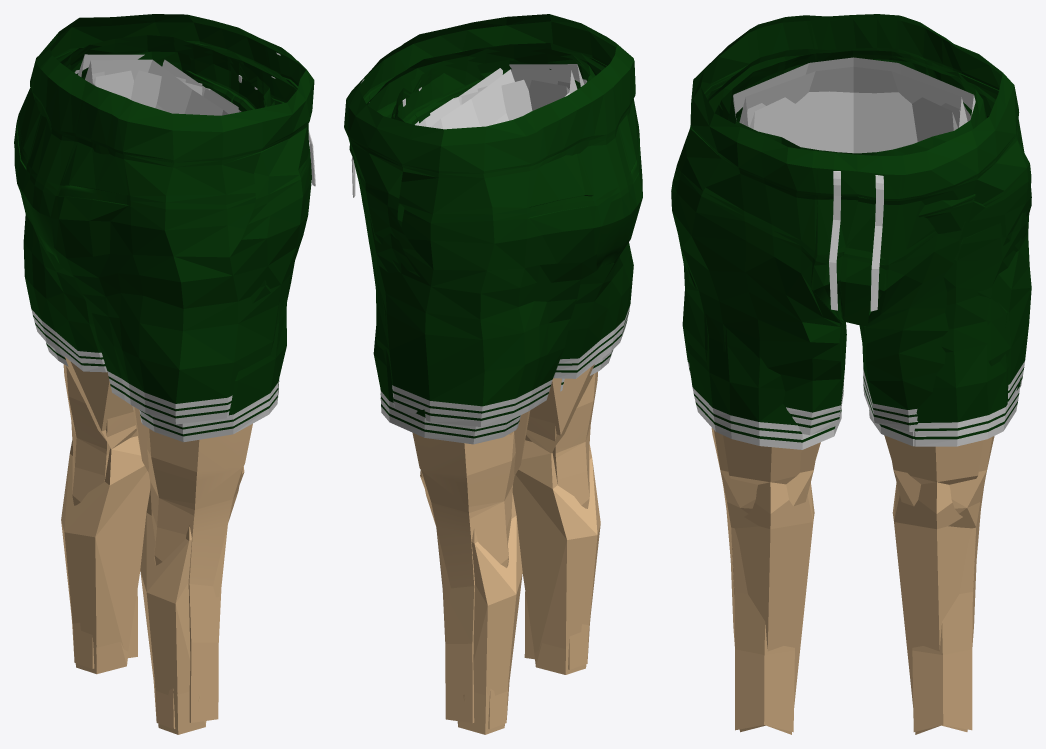
The model's file is &&GreenShorts.glb.
3 renders of one model, left to right at view 1: azimuth 30°, elevation 25°; view 2: azimuth 150°, elevation 25°; view 3: azimuth 270°, elevation 25°, orthographic. The views are drawn at different scales.
Visible parts, largest first — view 1: legs_w, legs.001, legs_w.003, legs_w.001, legs, legs.002; view 2: legs_w, legs.001, legs_w.003, legs_w.001, legs.002, legs; view 3: legs_w, legs.001, legs, legs.002, legs_w.003, legs_w.001.
Boxes of the visible parts, x1,y1,x2,y2 form: legs_w: (14, 14, 315, 698); legs.001: (37, 42, 296, 641); legs_w.003: (64, 35, 270, 729); legs_w.001: (70, 40, 270, 734); legs: (92, 51, 274, 722); legs.002: (76, 67, 274, 705); legs_w: (344, 14, 642, 699); legs.001: (349, 43, 631, 643); legs_w.003: (394, 44, 595, 729); legs_w.001: (396, 49, 590, 734); legs.002: (391, 60, 580, 677); legs: (392, 81, 570, 723); legs_w: (671, 14, 1031, 707); legs.001: (687, 47, 1026, 623); legs: (733, 103, 973, 732); legs.002: (736, 91, 972, 730); legs_w.003: (720, 50, 985, 155); legs_w.001: (715, 54, 986, 734).
Size of the model in its own units: 0.5261 by 1.19 by 0.5708.
